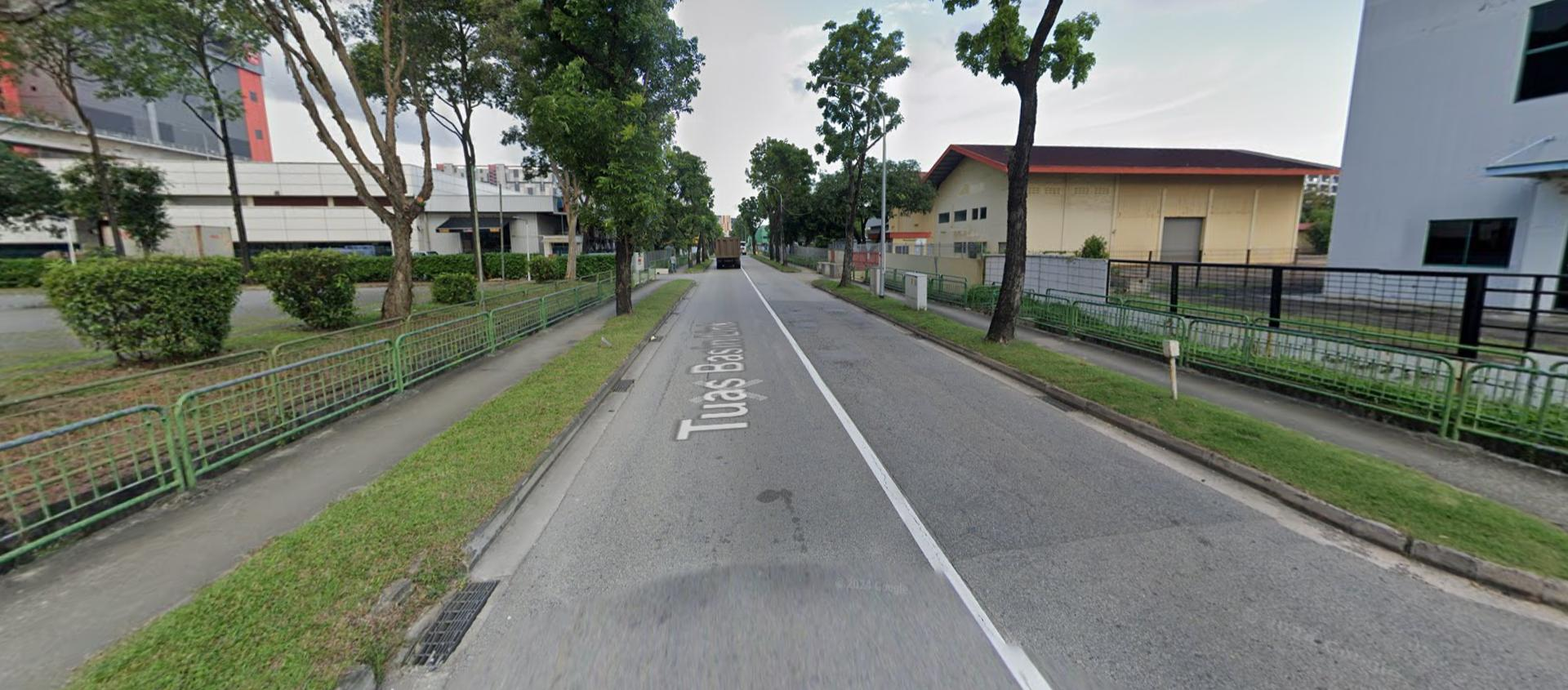defect: (404, 581, 501, 667)
